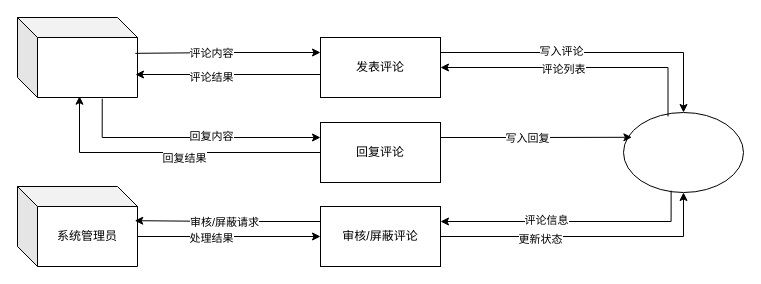
Image size: 761x284. Some labels were removed from this diagram. Each missing label, with the centre of its shape:
普通用户: (x=77, y=57)
评论信息表: (x=683, y=152)
